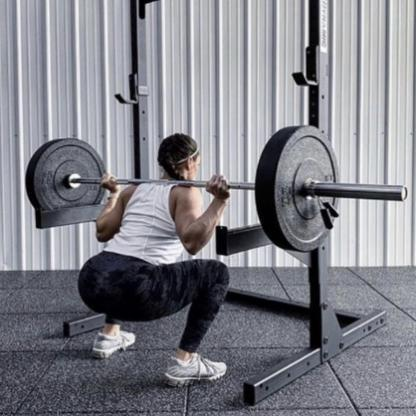barbell: (24, 124, 408, 253)
